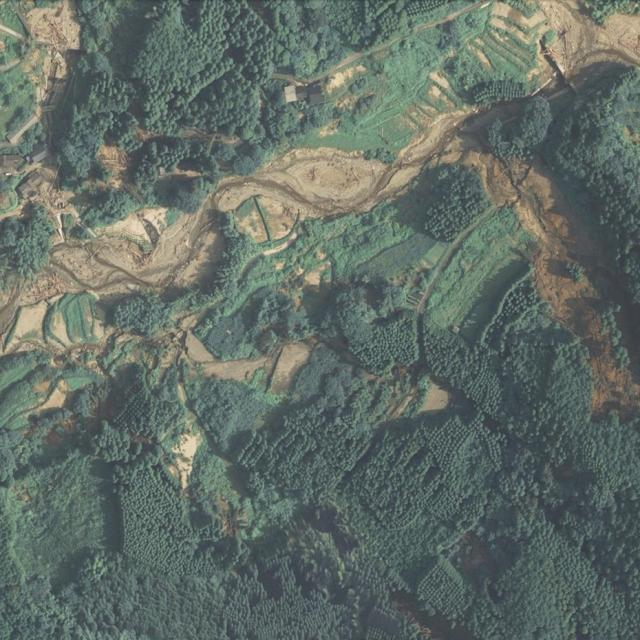landslide: (0, 93, 475, 351), (508, 160, 640, 419), (197, 110, 470, 217), (187, 333, 313, 394), (541, 0, 640, 77), (460, 241, 533, 331), (23, 0, 80, 95), (169, 425, 203, 491)
